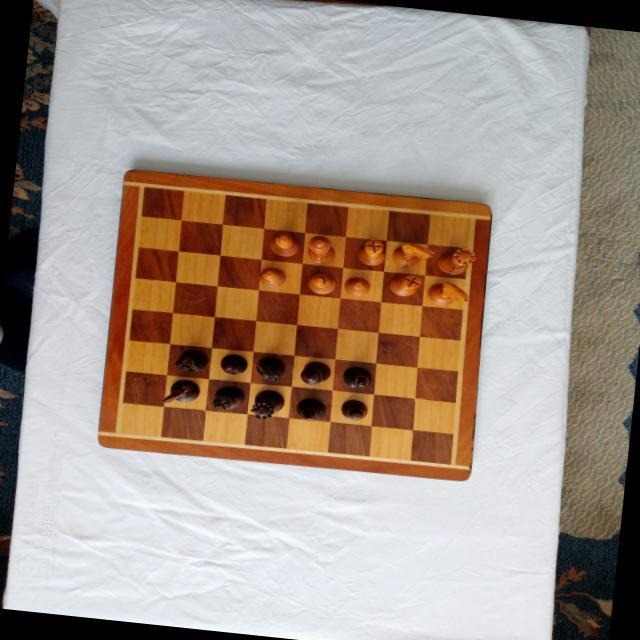black-bishop: (294, 396, 326, 422), (340, 364, 371, 390)
black-king: (297, 358, 330, 385)
black-knight: (159, 377, 200, 407), (252, 353, 285, 382)
black-pawn: (339, 398, 369, 422), (217, 352, 247, 376)
black-queen: (248, 388, 284, 421)
black-rook: (210, 383, 246, 412), (172, 346, 207, 373)
white-bishop: (268, 230, 300, 257), (305, 272, 335, 296)
white-king: (303, 234, 336, 265)
white-knight: (389, 241, 435, 271), (426, 279, 470, 307)
white-pawn: (257, 264, 287, 287), (342, 276, 370, 296)
white-queen: (436, 245, 476, 277)
white-rook: (354, 237, 386, 267), (387, 274, 421, 298)
